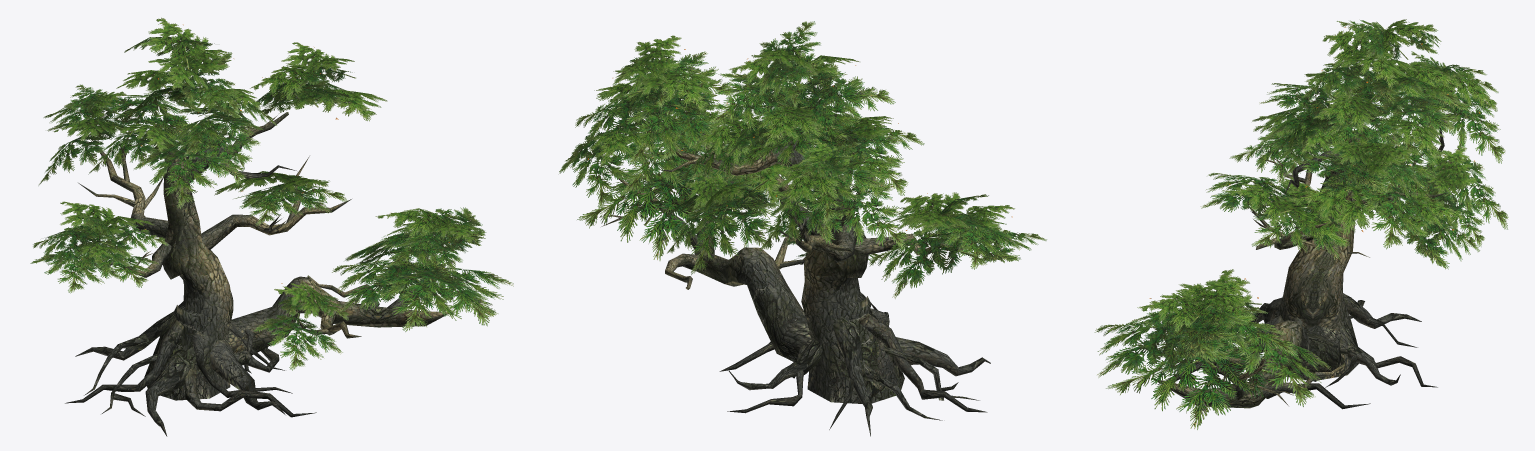
File: 4004_Item_shu_2.FBX
The picture shows the model from 3 angles, left to right: view 1: azimuth 30°, elevation 25°; view 2: azimuth 150°, elevation 25°; view 3: azimuth 270°, elevation 25°; orthographic projection. The views are drawn at different scales.
Parts seen in each view (by area): view 1: 4004_Item_shu_2; view 2: 4004_Item_shu_2; view 3: 4004_Item_shu_2.
Boxes of the visible parts, x1,y1,x2,y2 form: 4004_Item_shu_2: (30, 17, 513, 436); 4004_Item_shu_2: (559, 21, 1046, 436); 4004_Item_shu_2: (1094, 19, 1508, 429).
Size of the model in its own units: 1971 by 1367 by 1524.
